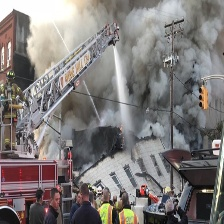smoke: (42, 3, 224, 132)
